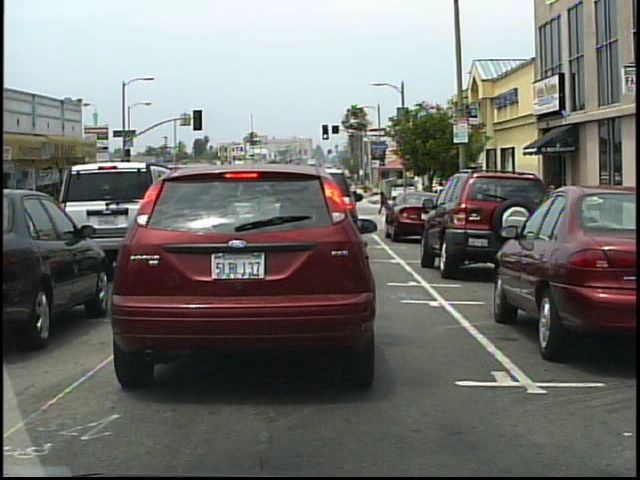person: (379, 186, 389, 218)
